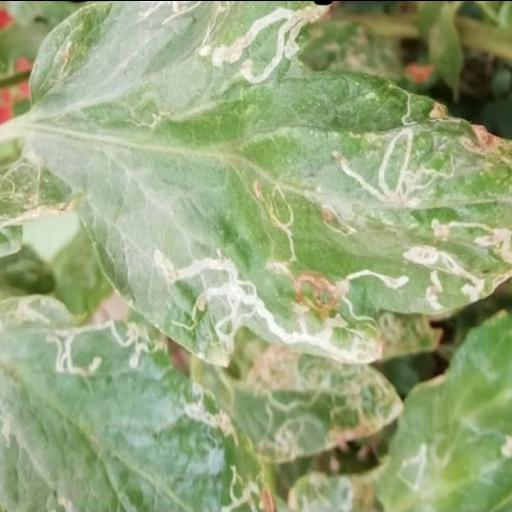Leaf Miner: (27, 0, 512, 366)
